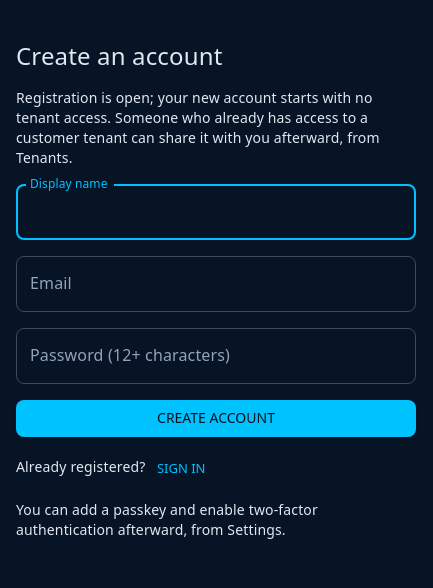
Test: Register › shows an error alert when registration fails
Type "Maya Chen" into the field labelled "Display name" at [216, 212], box [16,184,416,240]
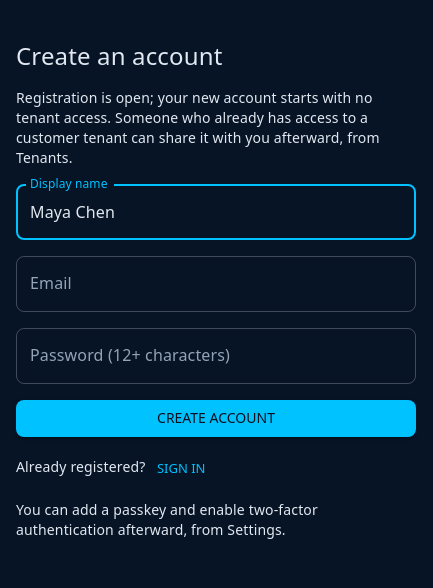
Type "maya@contoso.com" into the field labelled "Email" at [216, 284], box [16,256,416,312]
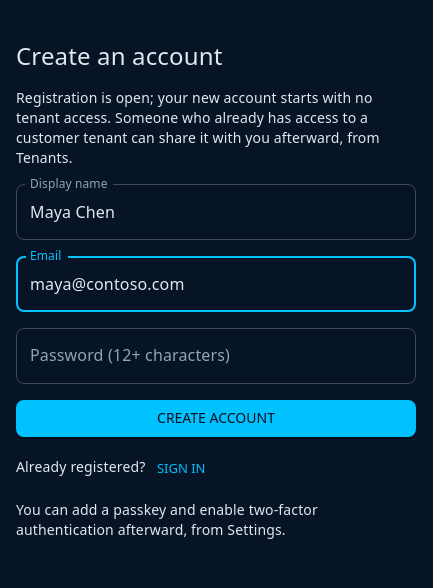
Type "correct-horse-battery" into the password field labelled "Password (12+ characters)" at [216, 356], box [16,328,416,384]
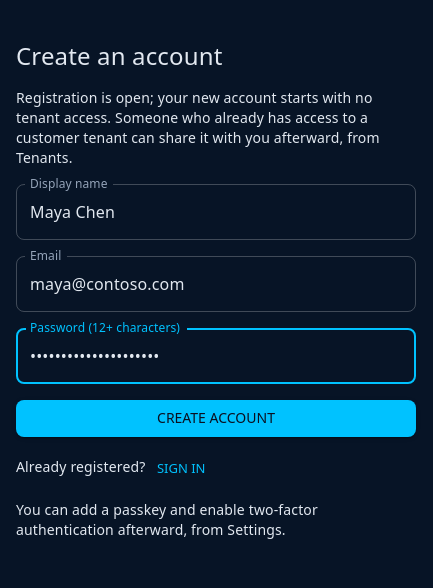
Click the button "Create account" at [216, 419], box [16,400,416,437]
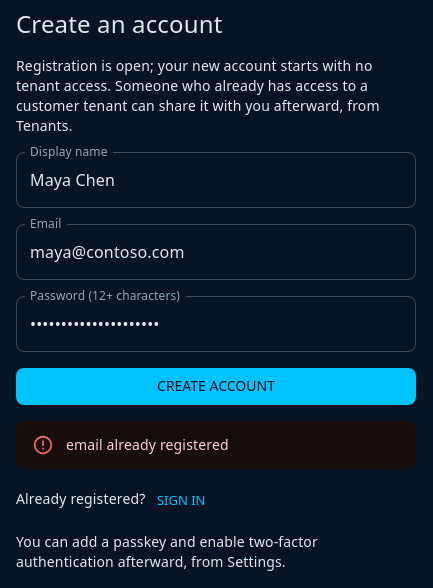
Check: the text "email already registered" is shown, box [66,435,229,454]
